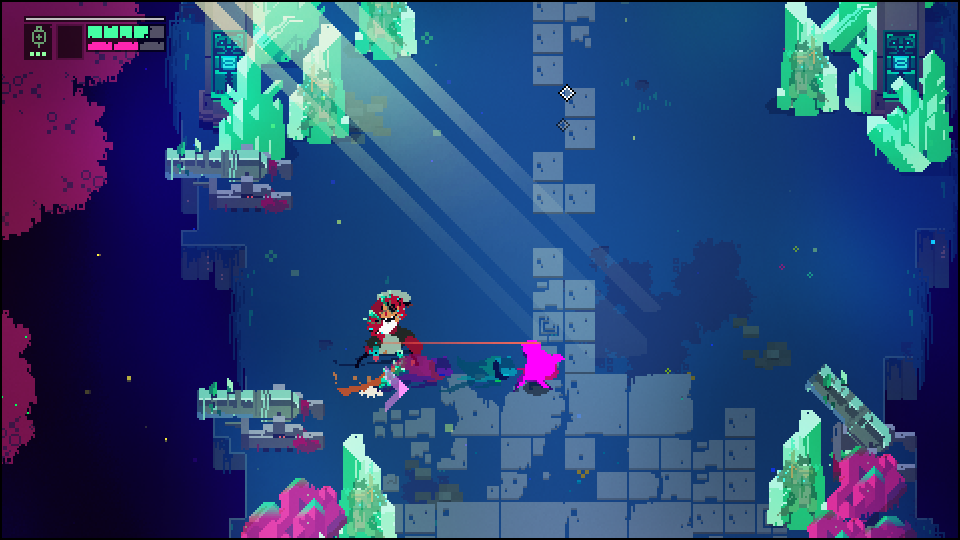hanged_man: (350, 291, 411, 404)
player: (518, 337, 562, 388)
